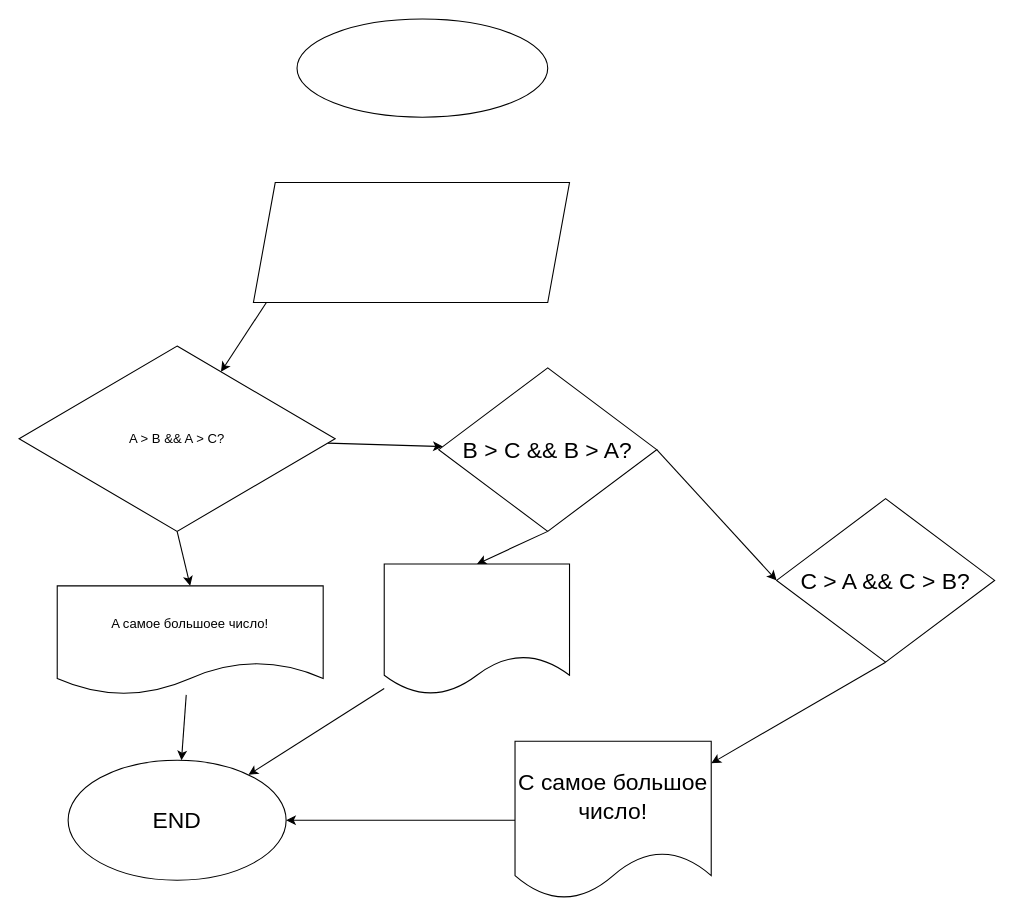
This 1014x919 diagram has some shape labels left out. Each missing label, with the centre of its shape:
B Самое большое число!: (x=476, y=629)
Start: (x=422, y=67)
Введите число A Введите число В Введите число С: (x=411, y=241)
